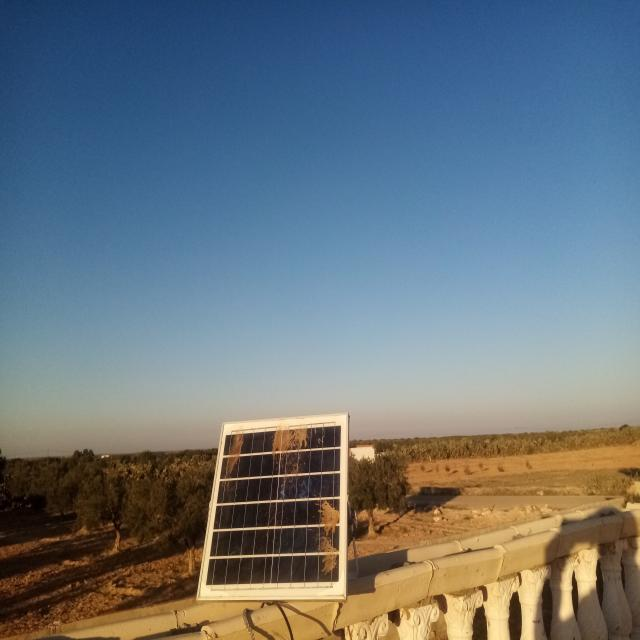faulty: (197, 413, 349, 600)
